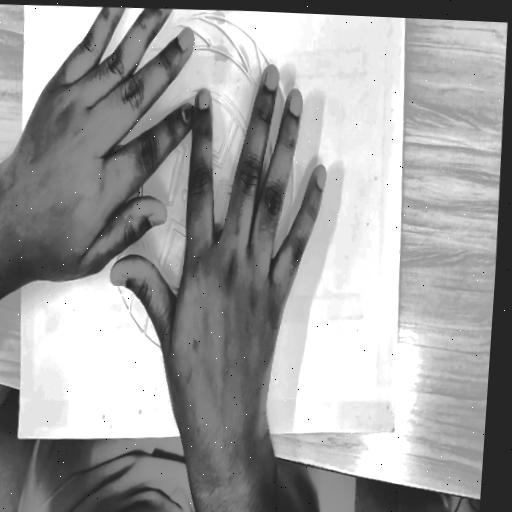bottom_left: (13, 430, 24, 446)
bottom_right: (388, 421, 401, 439)
tire: (103, 10, 313, 372)
